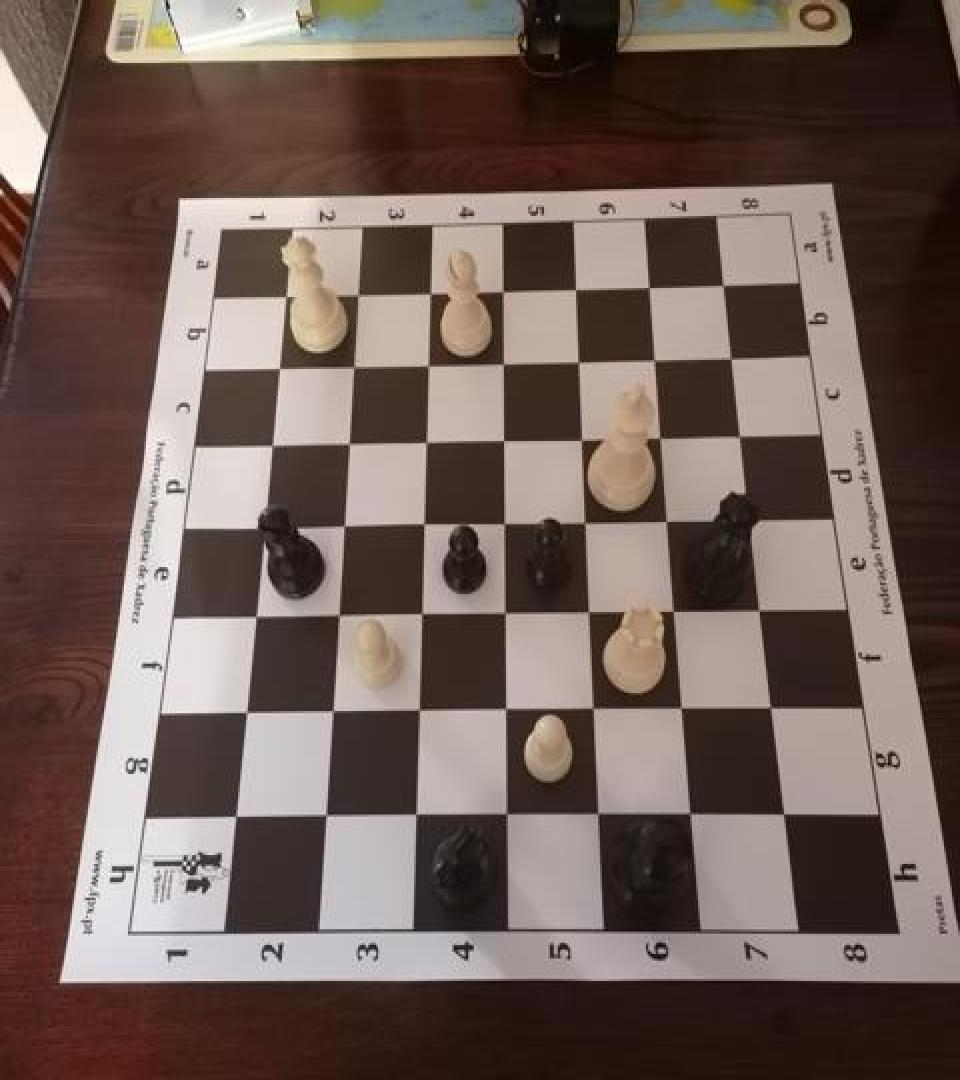xcorner: (756, 688, 788, 725), (668, 688, 700, 725), (579, 689, 611, 726), (401, 797, 433, 834), (310, 797, 342, 834), (635, 269, 667, 305), (561, 270, 593, 306), (488, 271, 520, 307), (416, 274, 448, 310), (343, 274, 375, 310), (271, 276, 303, 312), (716, 338, 748, 374), (640, 341, 672, 377), (564, 342, 596, 378), (489, 343, 521, 379), (414, 346, 446, 382), (339, 346, 371, 382), (264, 348, 296, 384), (725, 416, 757, 452), (646, 418, 678, 454), (568, 420, 600, 456), (489, 421, 521, 457), (412, 422, 444, 458), (334, 424, 366, 460), (256, 425, 288, 461), (735, 500, 767, 536), (653, 502, 685, 538), (571, 503, 603, 539), (490, 504, 522, 540), (409, 505, 441, 541), (329, 506, 361, 542), (248, 508, 280, 544), (745, 590, 777, 626), (660, 592, 692, 628), (575, 593, 607, 629), (491, 594, 523, 630), (407, 595, 439, 631), (323, 596, 355, 632), (239, 598, 271, 634), (491, 691, 523, 727), (404, 692, 436, 728), (317, 693, 349, 729), (230, 694, 262, 730), (768, 794, 800, 830), (676, 794, 708, 830), (584, 796, 616, 832), (492, 796, 524, 832), (220, 799, 252, 835), (708, 267, 740, 302)
